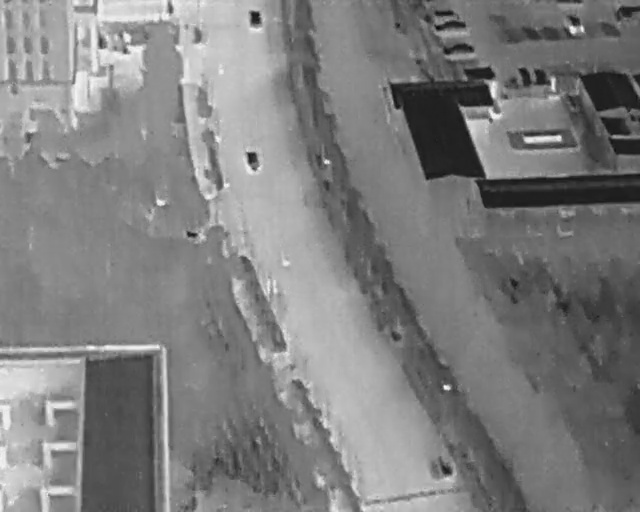Car: (564, 12, 584, 37), (445, 42, 475, 56), (245, 149, 262, 173), (517, 64, 534, 88), (435, 20, 467, 32), (247, 9, 263, 29), (533, 66, 548, 86), (433, 10, 459, 19)
